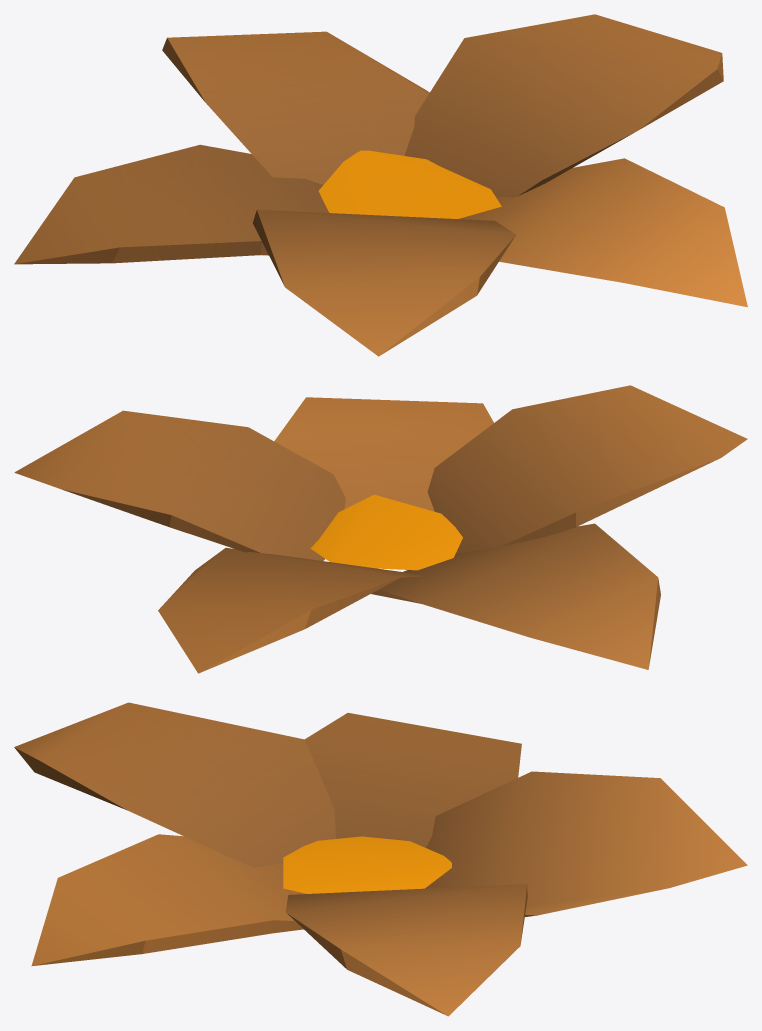
The model's file is Autumn_Flower_02.glb.
3 renders of one model, top to bottom at view 1: azimuth 30°, elevation 25°; view 2: azimuth 150°, elevation 25°; view 3: azimuth 270°, elevation 25°, orthographic. The views are drawn at different scales.
Parts seen in each view (by area): view 1: Autumn_Flower_02_LOD0; view 2: Autumn_Flower_02_LOD0; view 3: Autumn_Flower_02_LOD0.
Boxes of the visible parts, x1,y1,x2,y2 form: Autumn_Flower_02_LOD0: (14,14,747,356); Autumn_Flower_02_LOD0: (14,385,747,673); Autumn_Flower_02_LOD0: (14,702,747,1016).
Size of what is drawn, in the model's own units: 0.292 by 0.044 by 0.2825.
1 material, 1 textured.
